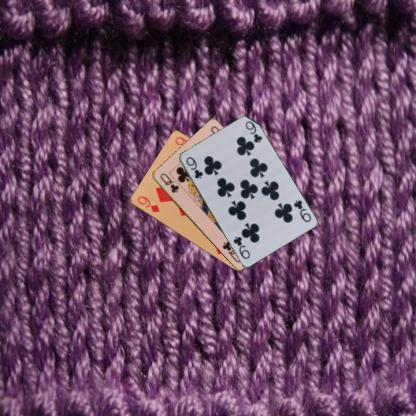9c: (290, 197, 312, 224), (183, 154, 204, 180)
9d: (134, 193, 160, 214)
Qc: (157, 170, 180, 194)
